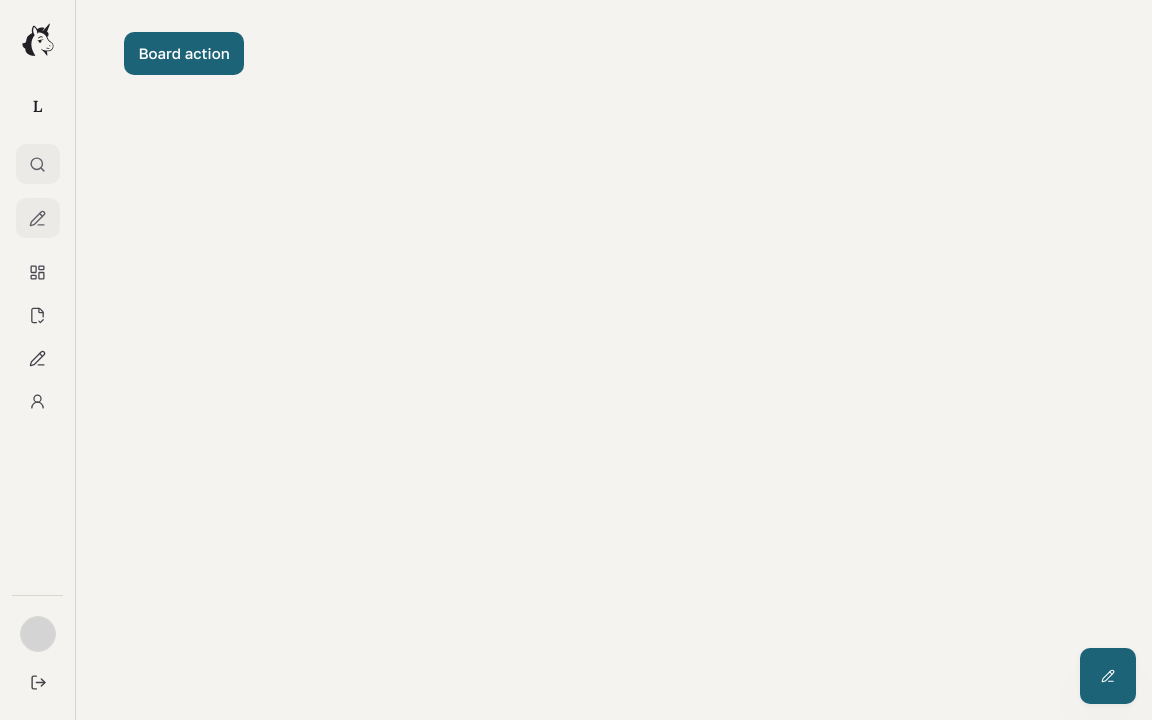
it: Campaign quick notes › loads a stored draft when an initial viewer regains permission to write
What coordinates should you click on to do the following:
click the 3rd button
I would click on:
 (38, 218)
Its box is x1=16 y1=198 x2=60 y2=238.
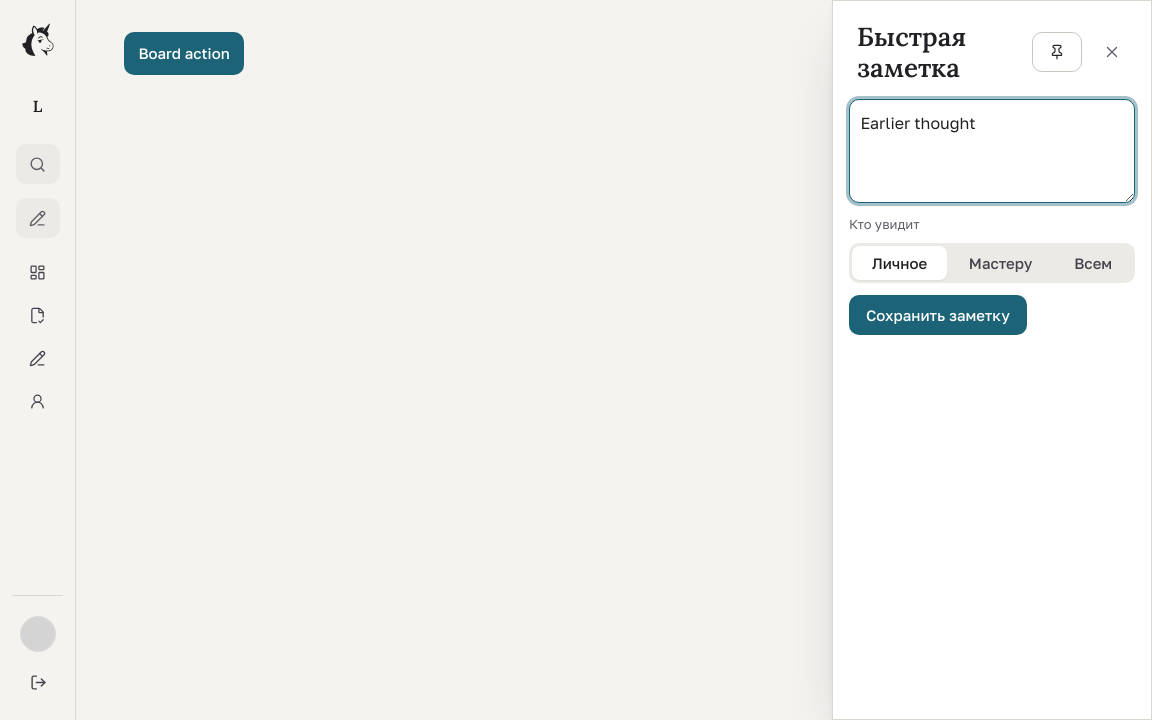
Expected: the text box holds "Earlier thought", x1=849 y1=99 x2=1135 y2=203
